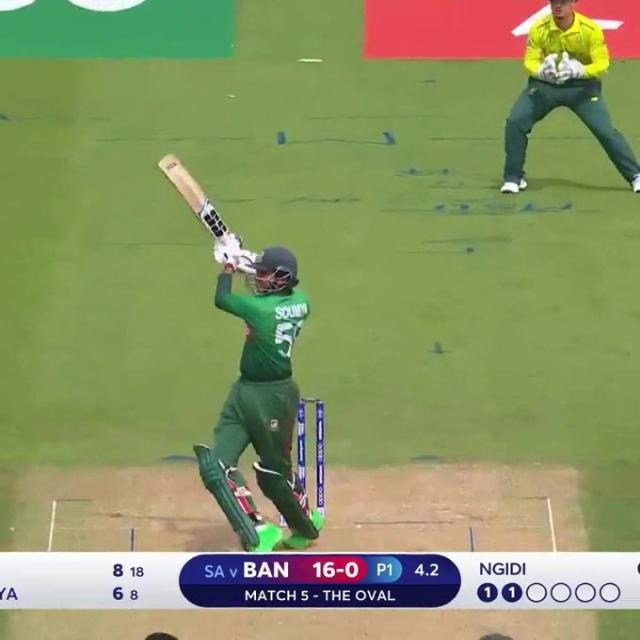bat: (150, 154, 225, 240)
toe: (154, 156, 179, 164)
